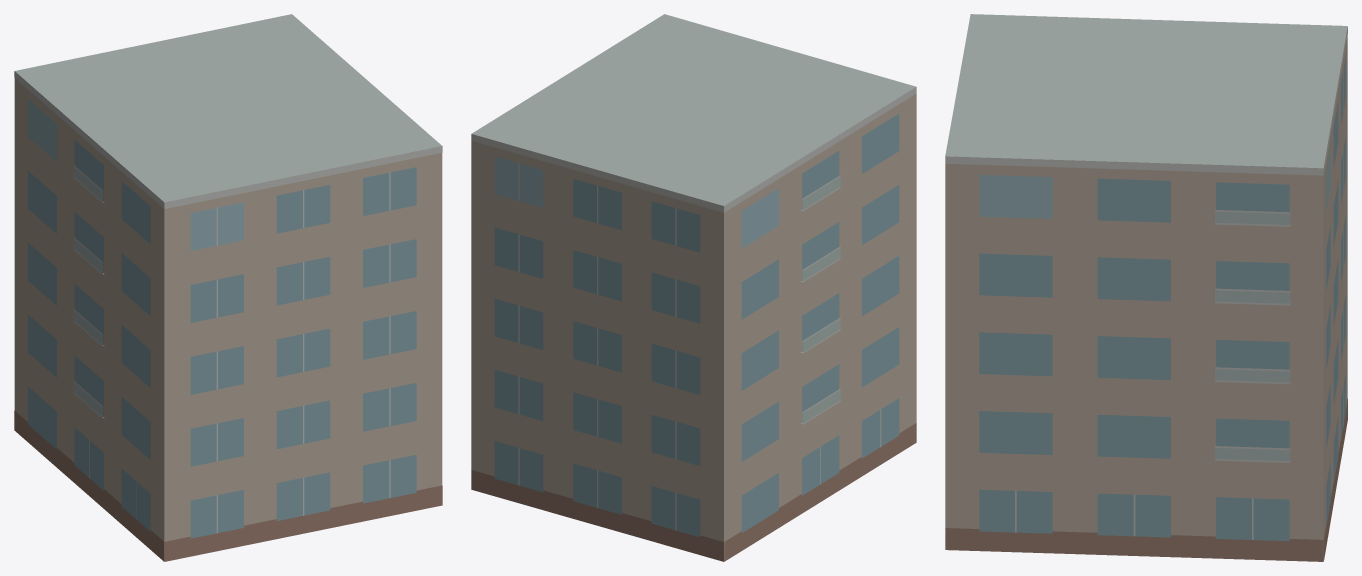
Rendered from survey-upis-32671868.glb.
The picture shows the model from 3 angles, left to right: view 1: azimuth 30°, elevation 25°; view 2: azimuth 150°, elevation 25°; view 3: azimuth 270°, elevation 25°; orthographic projection. The views are drawn at different scales.
Parts seen in each view (by area): view 1: survey-upis-32671868.tmp; view 2: survey-upis-32671868.tmp; view 3: survey-upis-32671868.tmp.
Part boxes in pixels (<box>): survey-upis-32671868.tmp: <box>14,14,442,561</box>; survey-upis-32671868.tmp: <box>471,14,916,561</box>; survey-upis-32671868.tmp: <box>945,14,1347,561</box>.
Bounding box in the file's own units: 11.02 × 13.1 × 12.16.
